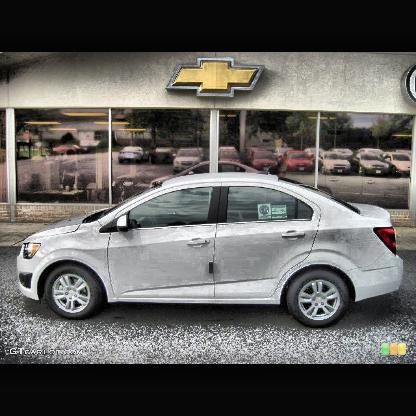Chevrolet Sonic Sedan 2012: (15, 172, 405, 328)
